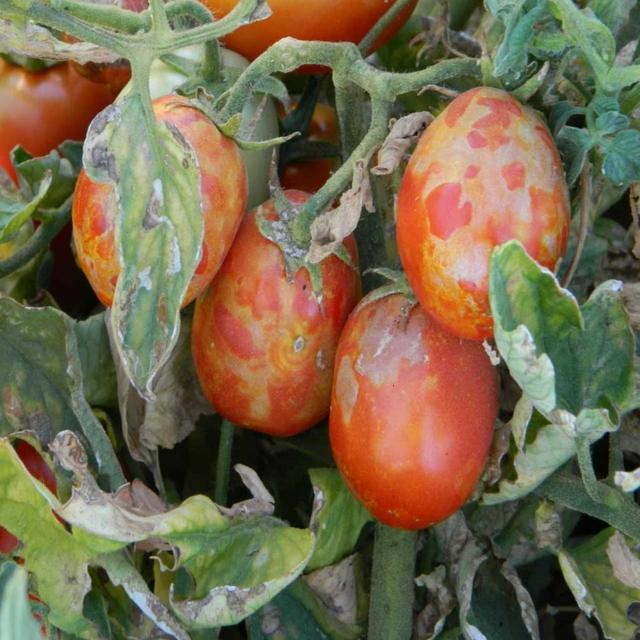Spotted wilt Virus Fruit: (108, 130, 322, 270)
